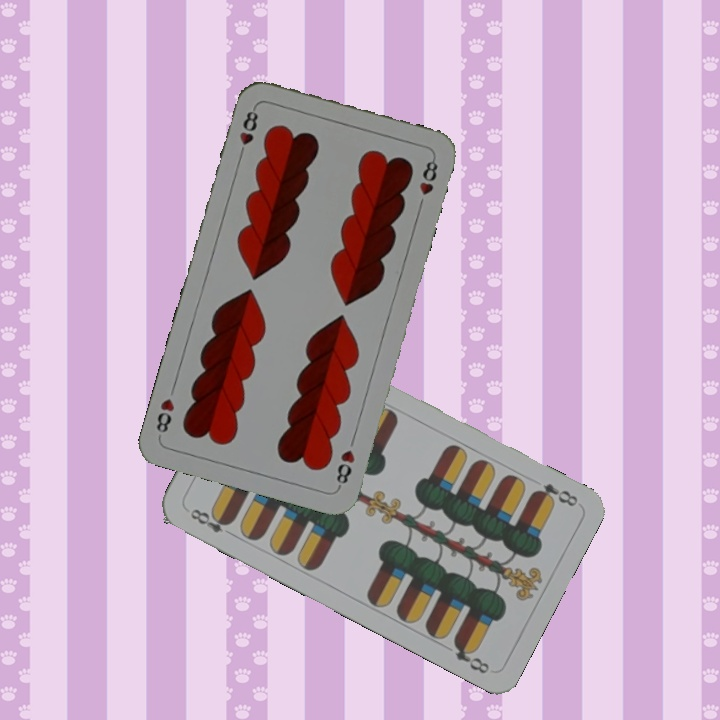E8: (186, 504, 238, 540), (528, 479, 581, 509)
H8: (235, 103, 261, 161), (332, 445, 358, 491)
